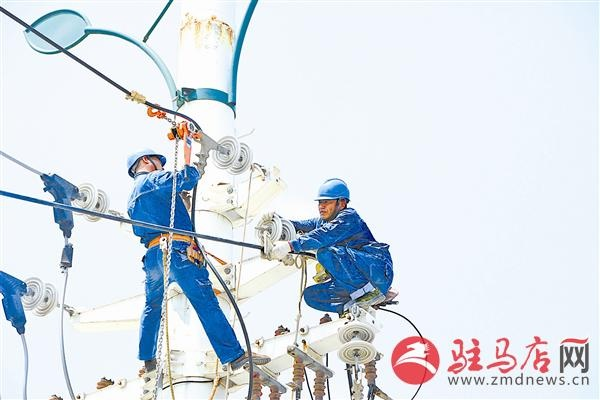blue: (312, 178, 351, 219), (124, 147, 168, 179)
